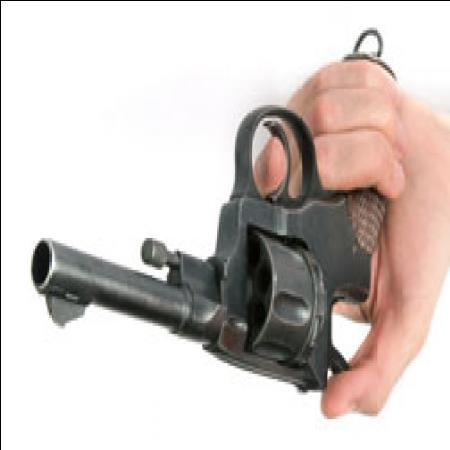Pistol: (26, 30, 404, 400)
